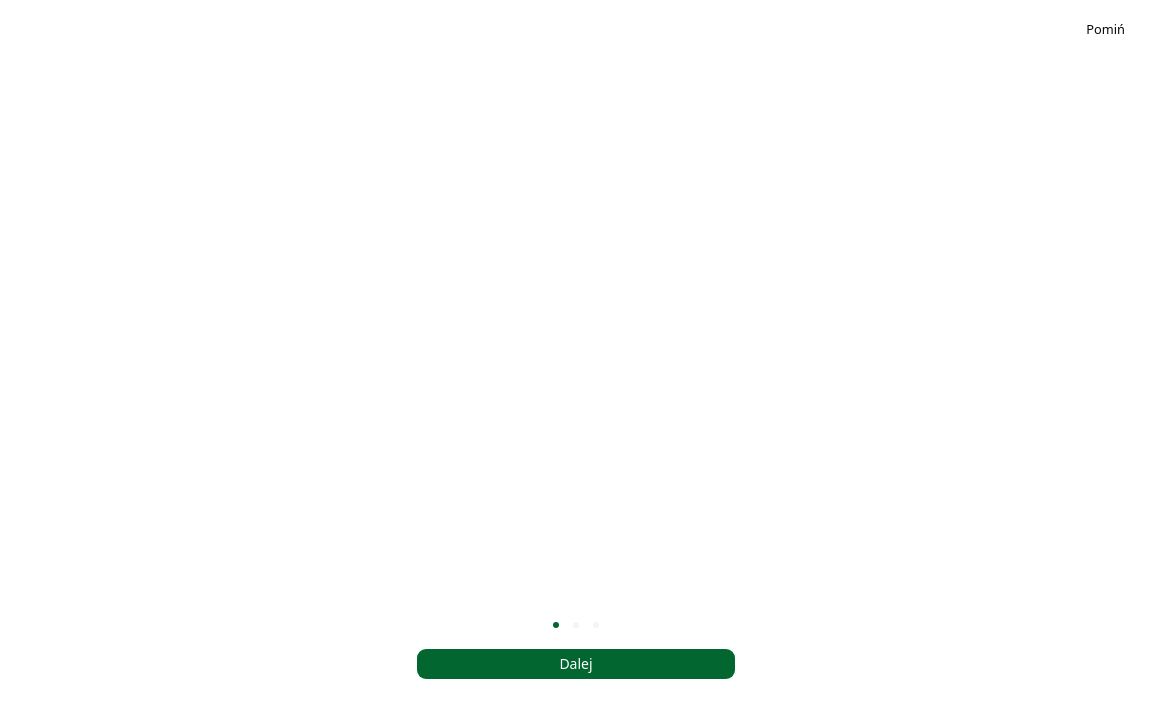
Scenario: OnboardingOverlay › pozwala cofnąć się do poprzedniego slajdu przyciskiem "Wstecz"
The image size is (1152, 720).
expect the button "Wstecz" is not shown: met
Click the button "Dalej": point(576, 664) [416,648,736,680]
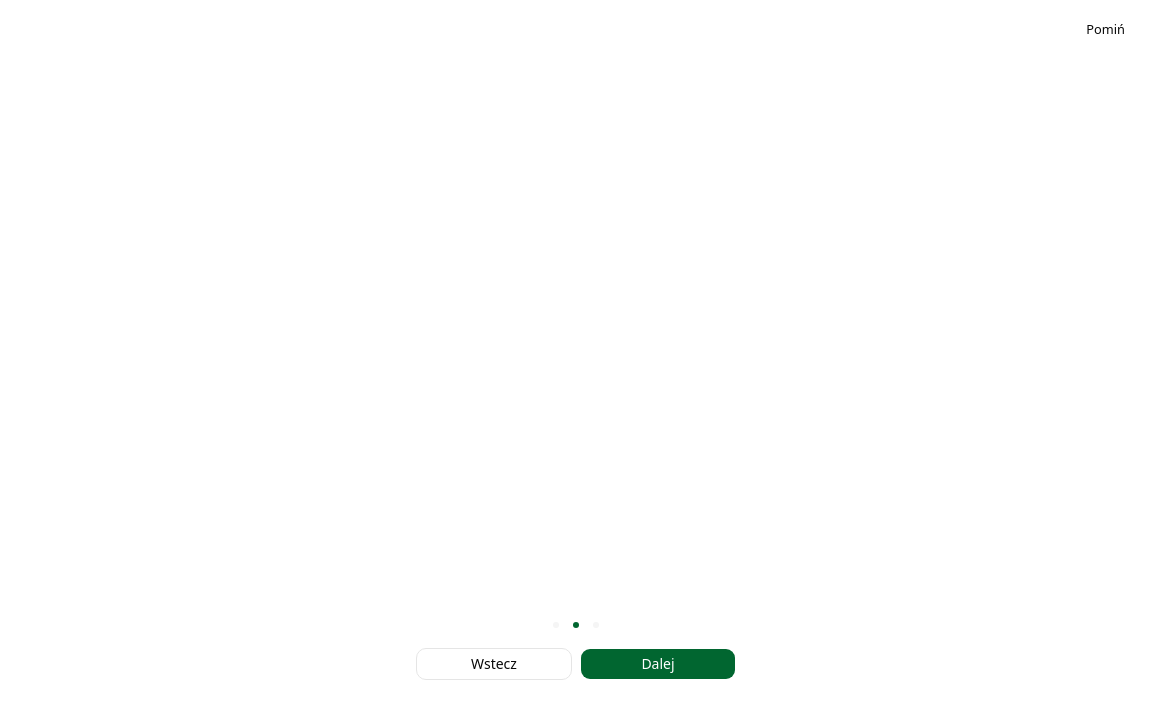
Click the button "Wstecz": point(494, 664) [416,648,572,680]
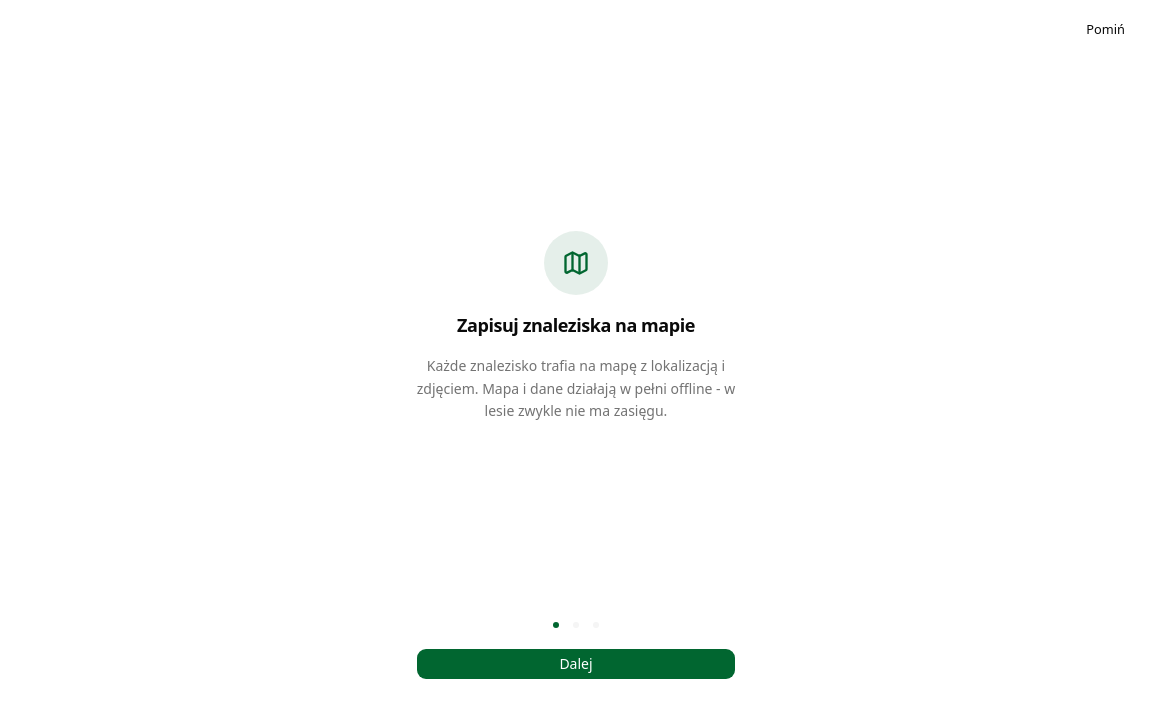
expect the heading "Zapisuj znaleziska na mapie" is shown: met, box [457,311,695,339]
expect the button "Wstecz" is gone: met
